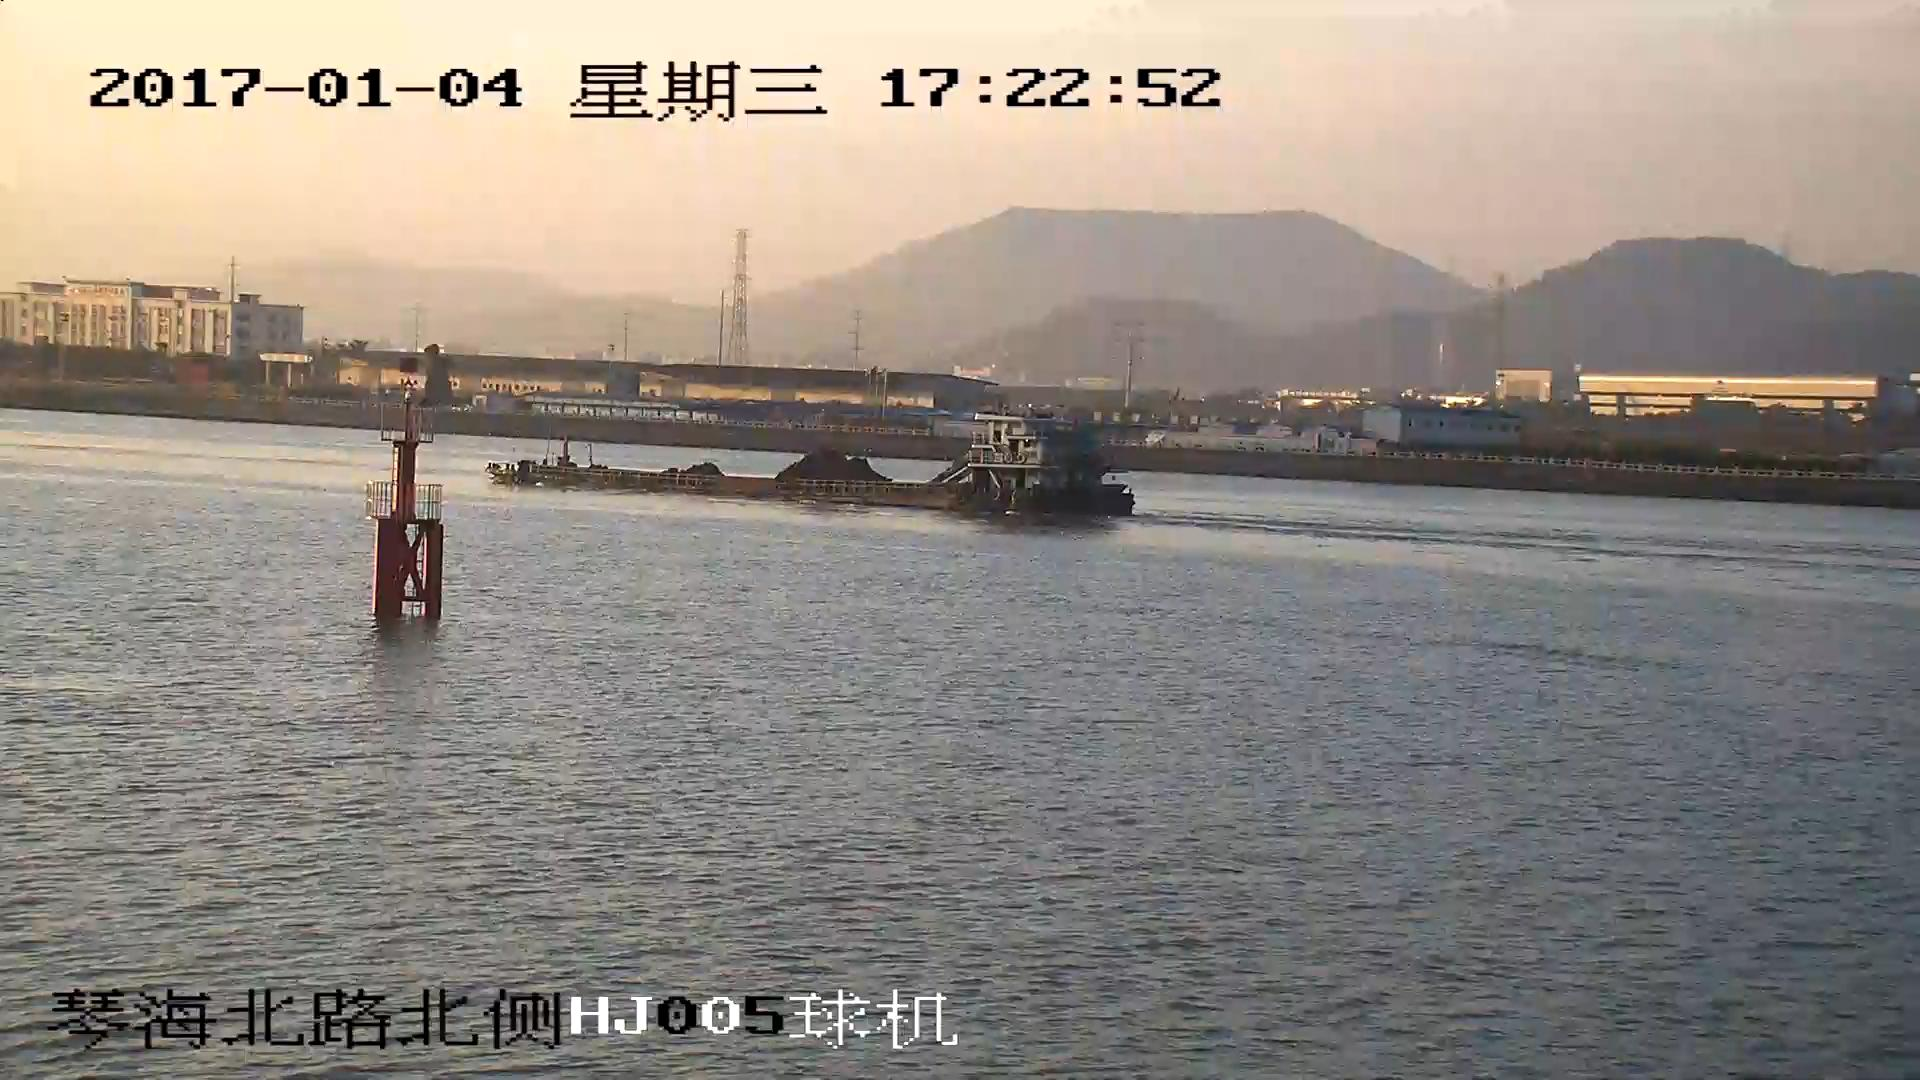ore carrier: (486, 414, 1138, 517)
